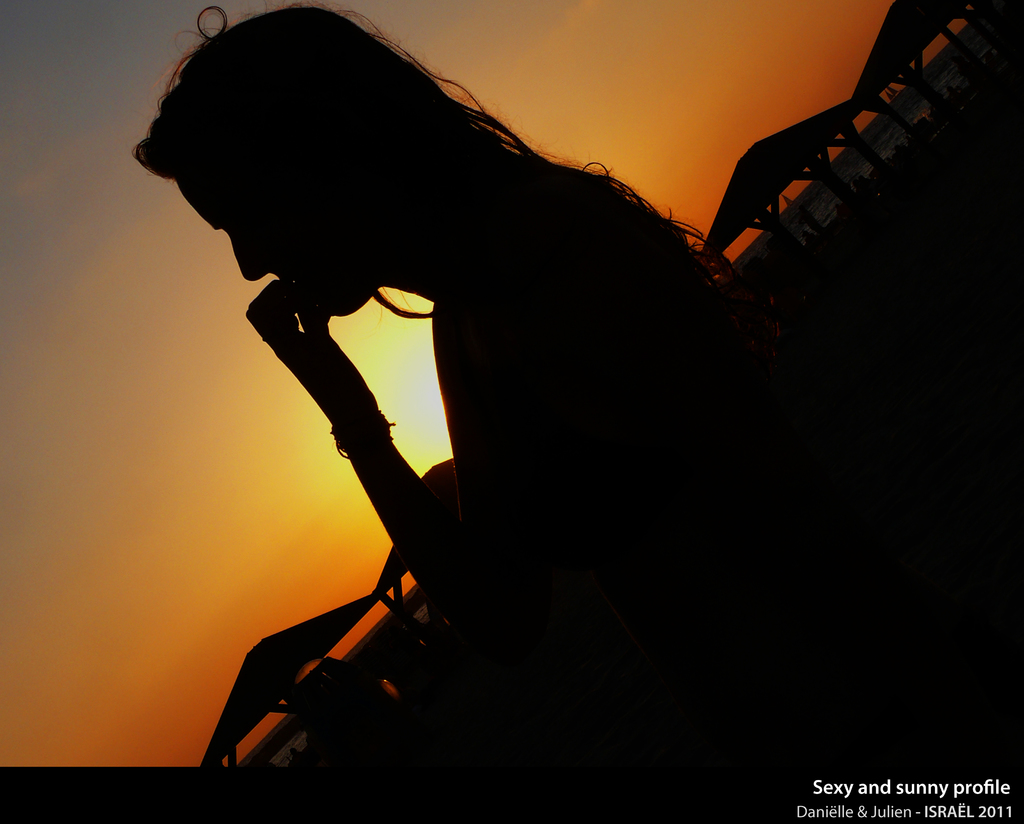Person: (129, 0, 787, 822)
